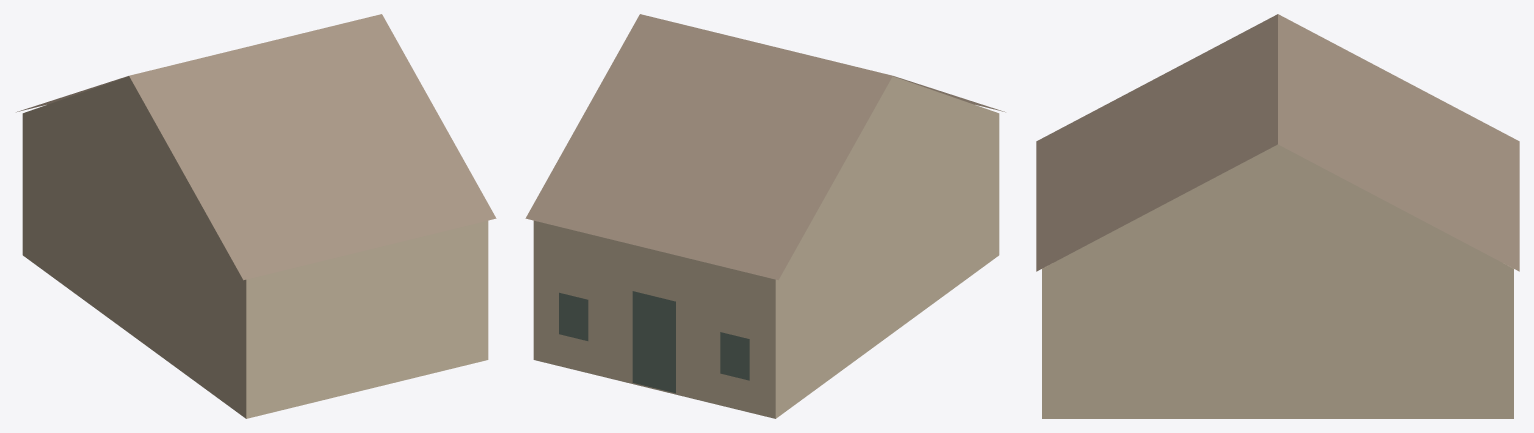
The model's file is recon_1835_north_a2_048__recommended_1835.glb.
The picture shows the model from 3 angles, left to right: view 1: azimuth 30°, elevation 25°; view 2: azimuth 150°, elevation 25°; view 3: azimuth 270°, elevation 25°; orthographic projection. The views are drawn at different scales.
Visible parts, largest first — view 1: recon_1835_north_a2_048__recommended_1835; view 2: recon_1835_north_a2_048__recommended_1835; view 3: recon_1835_north_a2_048__recommended_1835.
Part boxes in pixels (box(x1,y1,x2,y2)): recon_1835_north_a2_048__recommended_1835: box(16, 14, 496, 418); recon_1835_north_a2_048__recommended_1835: box(525, 14, 1005, 418); recon_1835_north_a2_048__recommended_1835: box(1036, 14, 1519, 418).
Size of the model in its own units: 6.38 by 6.33 by 9.99.
